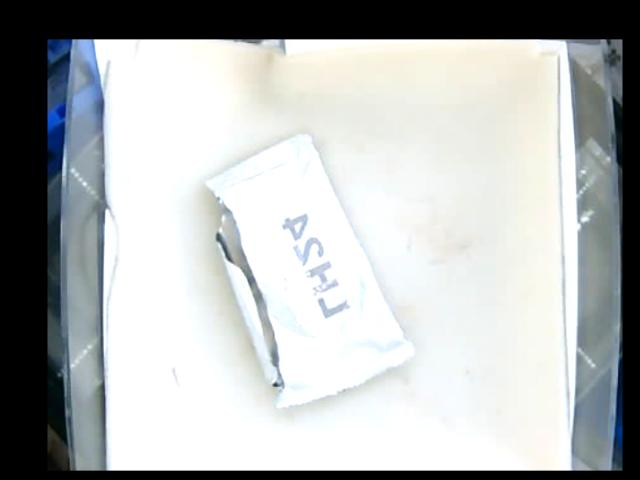Medicine: (205, 131, 411, 406)
